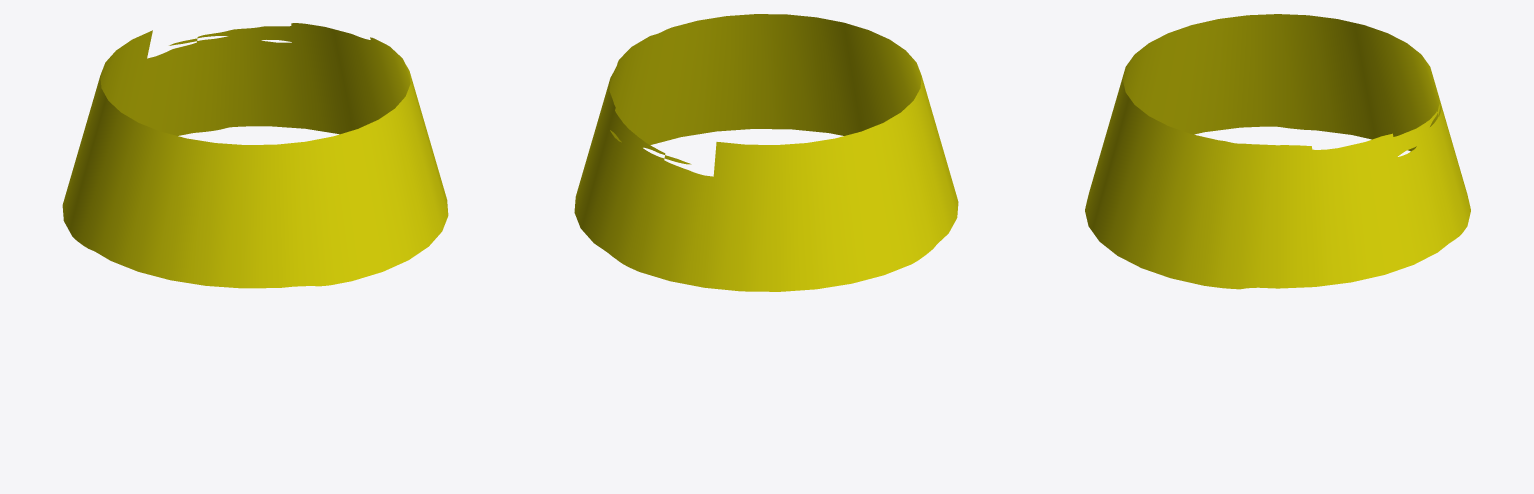
File: LibraryVolumeLightShape_02.FBX
3 renders of one model, left to right at view 1: azimuth 30°, elevation 25°; view 2: azimuth 150°, elevation 25°; view 3: azimuth 270°, elevation 25°, orthographic.
Visible parts, largest first — view 1: lib_volume_light_01; view 2: lib_volume_light_01; view 3: lib_volume_light_01.
Boxes of the visible parts, bbox=[...] form: lib_volume_light_01: bbox=[62, 23, 448, 288]; lib_volume_light_01: bbox=[574, 14, 958, 291]; lib_volume_light_01: bbox=[1085, 14, 1470, 289].
Size of the model in its own units: 80.71 by 80.71 by 54.95.
